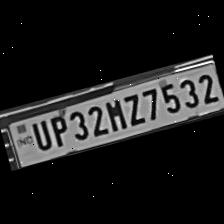2: (192, 67, 220, 105), (82, 99, 108, 138)
3: (64, 105, 90, 142), (174, 74, 200, 110)
5: (154, 78, 182, 116)
7: (137, 84, 163, 122)
M: (100, 94, 128, 133)
P: (44, 110, 71, 148)
U: (26, 116, 53, 153)
Z: (119, 89, 147, 128)
